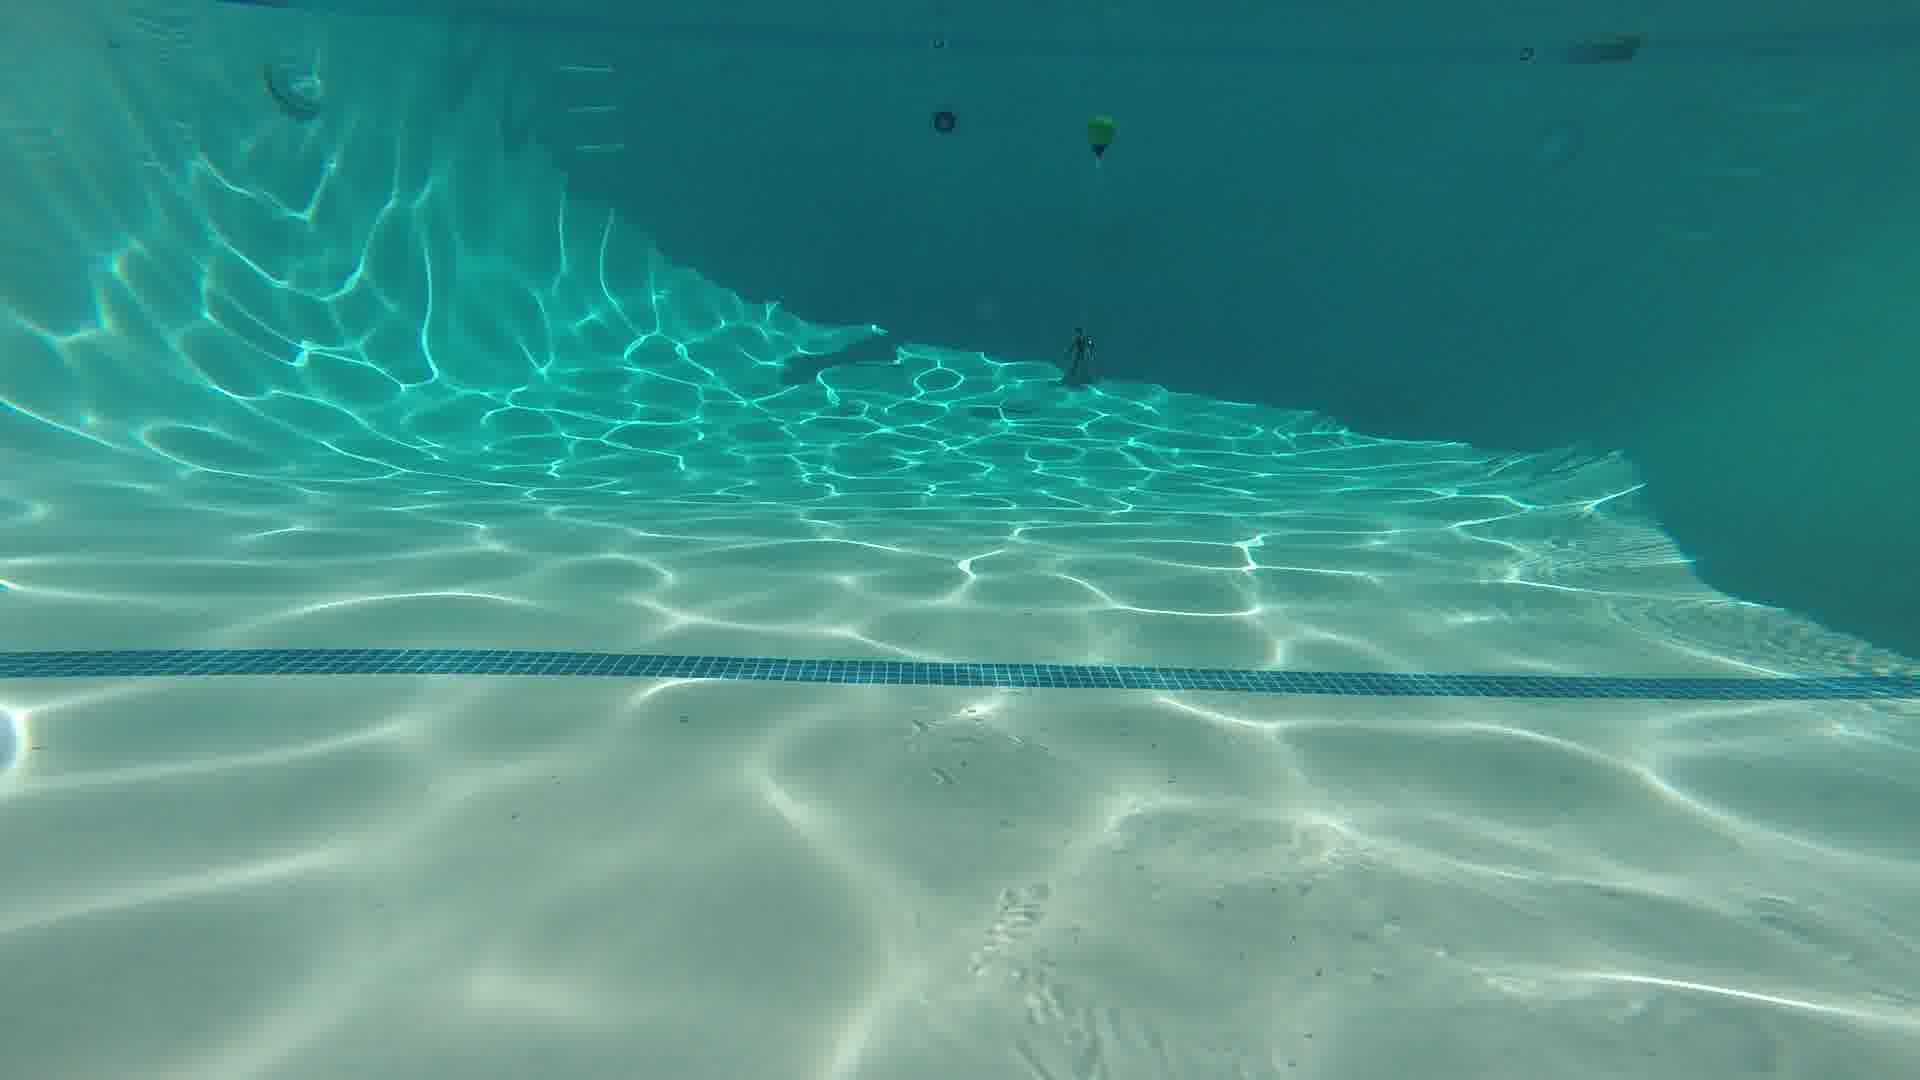yellow_buoy: (1083, 113, 1120, 171)
